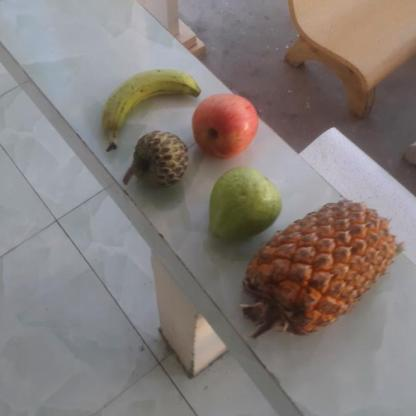annona: (130, 130, 192, 190)
apple: (191, 91, 261, 158)
banana: (99, 66, 208, 152)
guava: (207, 168, 287, 243)
pineapple: (242, 202, 402, 335)
